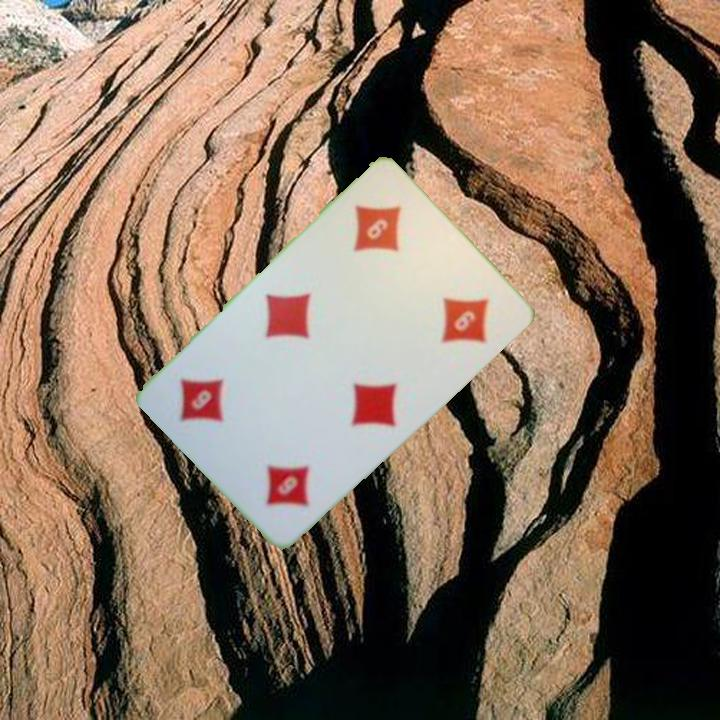d_6.png: (322, 174, 451, 303), (217, 405, 345, 534)
